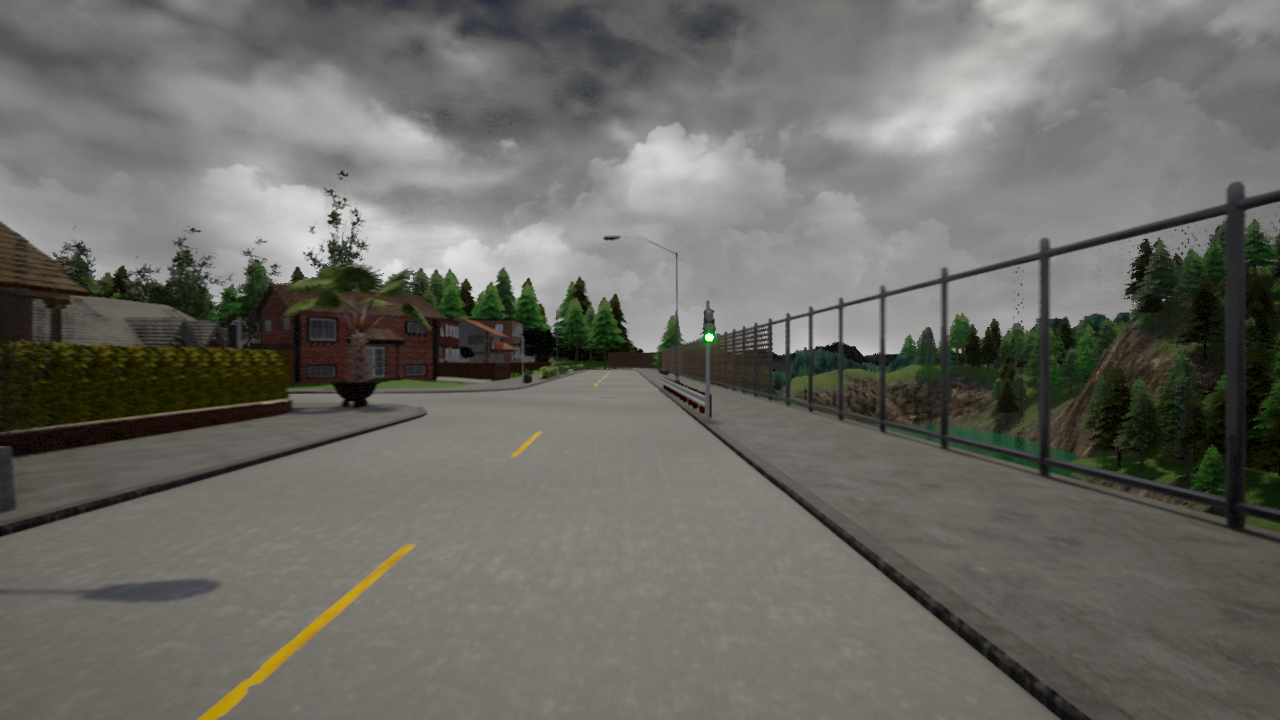green: (702, 308, 716, 344)
